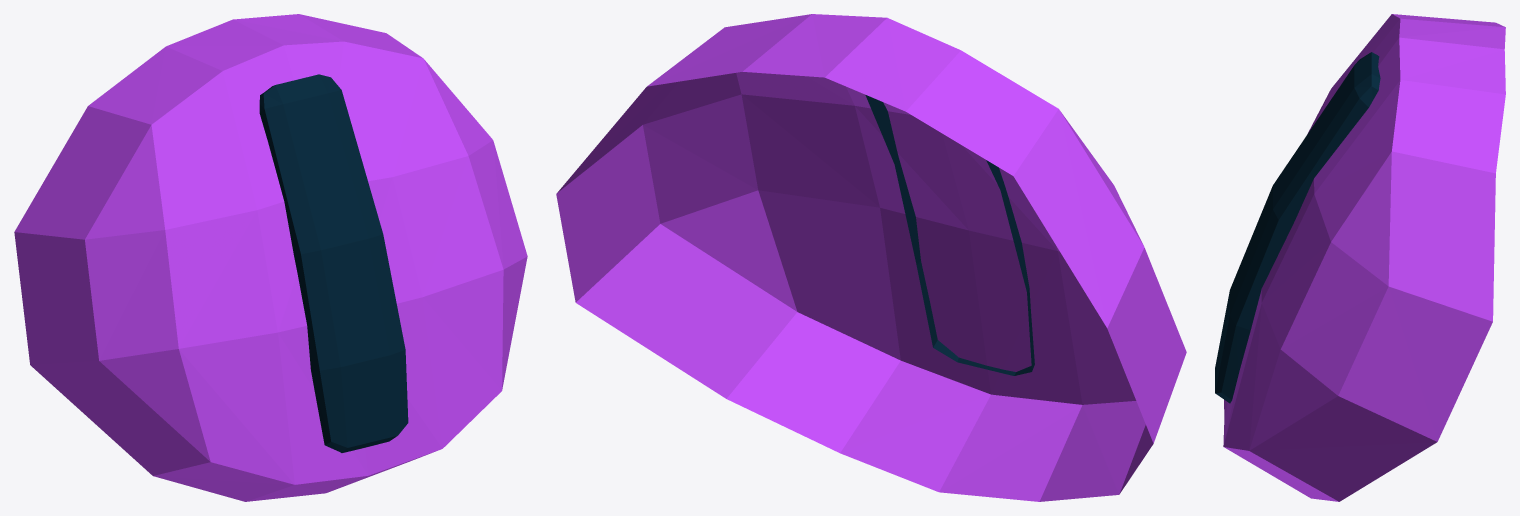
File: LightAnimtor.fbx
3 renders of one model, left to right at view 1: azimuth 30°, elevation 25°; view 2: azimuth 150°, elevation 25°; view 3: azimuth 270°, elevation 25°, orthographic. The views are drawn at different scales.
Visible parts, largest first — view 1: Eye_Purple; view 2: Eye_Purple; view 3: Eye_Purple.
Part boxes in pixels (left/top/right/bottom): Eye_Purple: left=14, top=14, right=527, bottom=501; Eye_Purple: left=556, top=14, right=1186, bottom=501; Eye_Purple: left=1215, top=14, right=1505, bottom=501.
Size of the model in its own units: 5.47 by 4.63 by 2.83.
